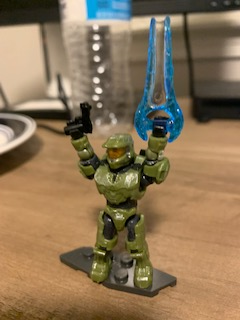chief: (63, 117, 171, 292)
pistol: (61, 101, 97, 142)
spartan: (61, 115, 169, 290)
up: (63, 116, 170, 208)
